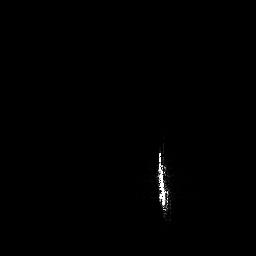ship: (157, 150, 170, 219)
